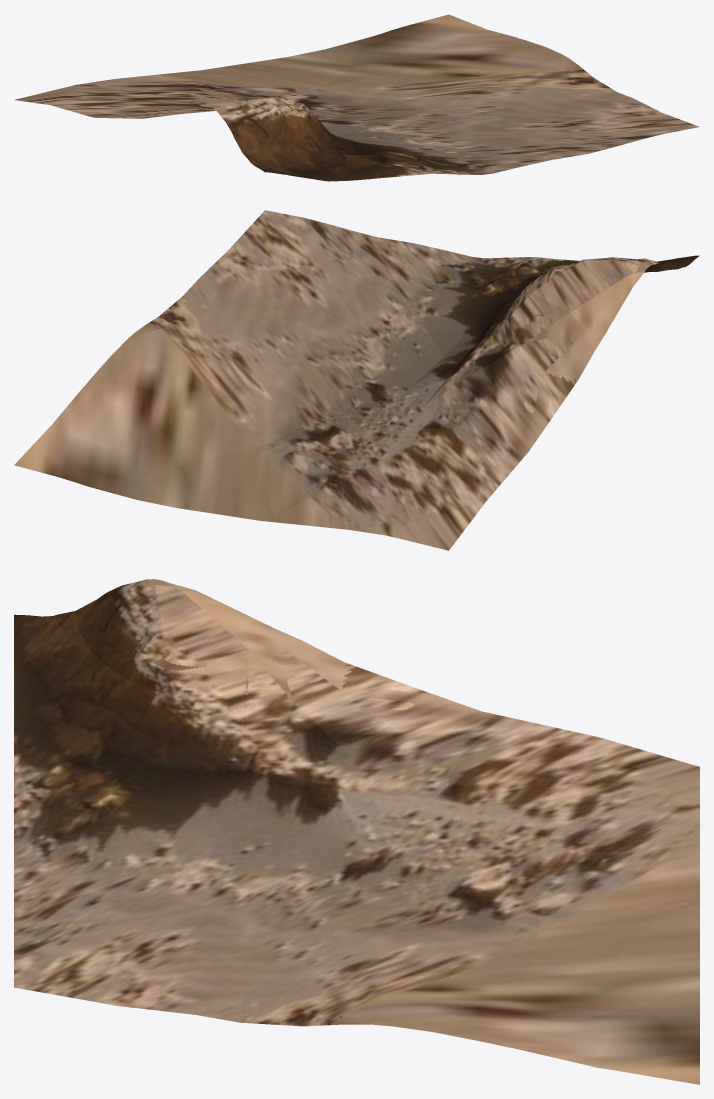
3 views of the same model, one above another, from view 1: azimuth 30°, elevation 25°; view 2: azimuth 150°, elevation 25°; view 3: azimuth 270°, elevation 25° (orthographic). The views are drawn at different scales.
Size of the model in its own units: 1.04 by 0.3736 by 1.04.
Materials: 2 (2 with a texture image).
